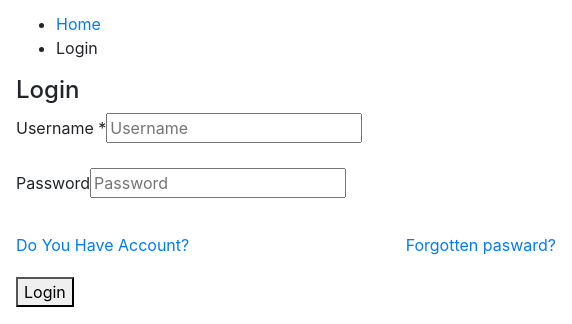
Test: SignIn Component › Form Validation › hiển thị lỗi khi password sai
The width and height of the screenshot is (572, 324).
Type "testuser" into the field with placeholder "Username" at point(234, 128), box [106,113,362,143]
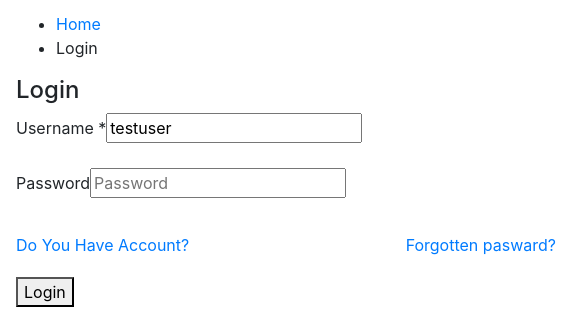
Type "wrongpassword" into the password field with placeholder "Password" at point(218, 183), box [90,168,346,198]
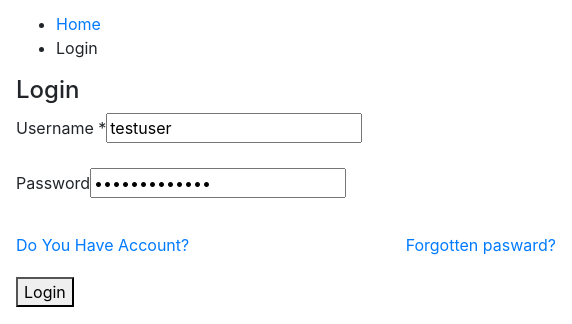
Click the button "Login" at point(45, 292), box [16,277,74,307]
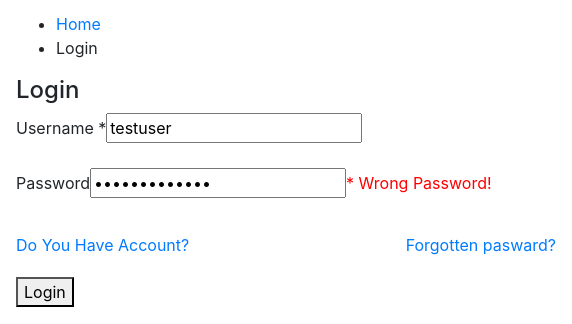
Expected: the text "* Wrong Password!" is shown, [346,173,492,193]
